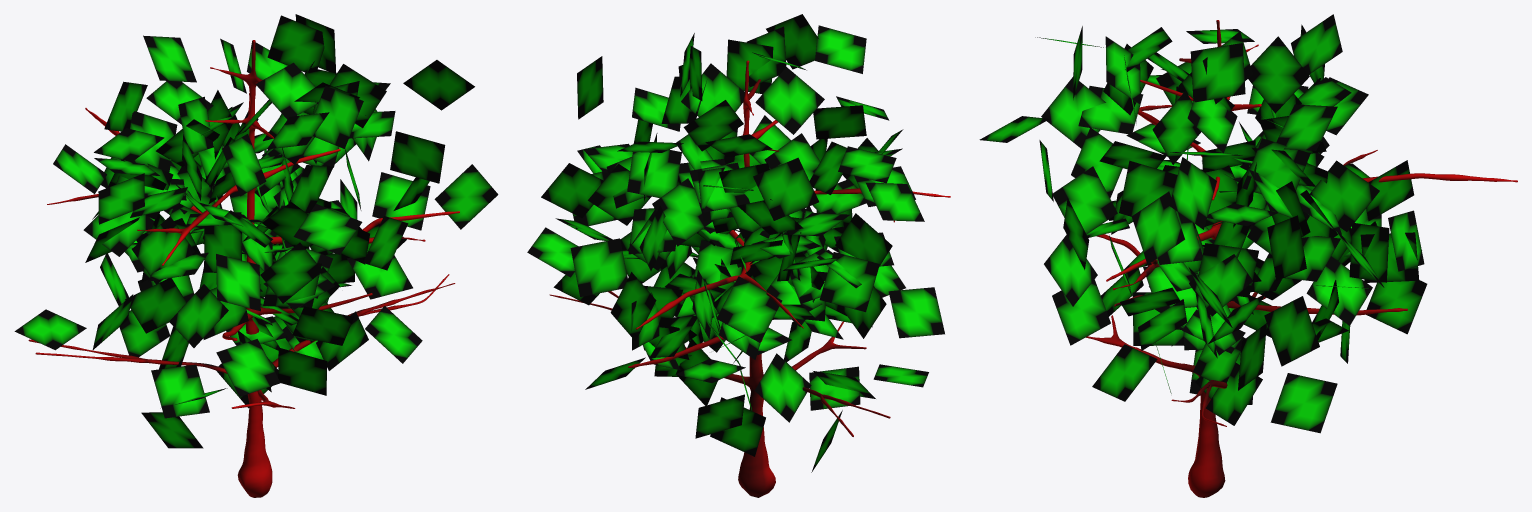
File: tree_1.obj
3 renders of one model, left to right at view 1: azimuth 30°, elevation 25°; view 2: azimuth 150°, elevation 25°; view 3: azimuth 270°, elevation 25°, orthographic. The views are drawn at different scales.
Parts seen in each view (by area): view 1: Sphere, Plane; view 2: Sphere, Plane; view 3: Sphere, Plane.
Boxes of the visible parts, left/top/right/bottom form: Sphere: left=14, top=14, right=498, bottom=448; Plane: left=28, top=40, right=459, bottom=497; Sphere: left=527, top=14, right=944, bottom=472; Plane: left=549, top=60, right=950, bottom=497; Sphere: left=979, top=14, right=1427, bottom=433; Plane: left=1086, top=20, right=1517, bottom=497.
Size of the model in its own units: 18.27 by 19.58 by 19.64.
